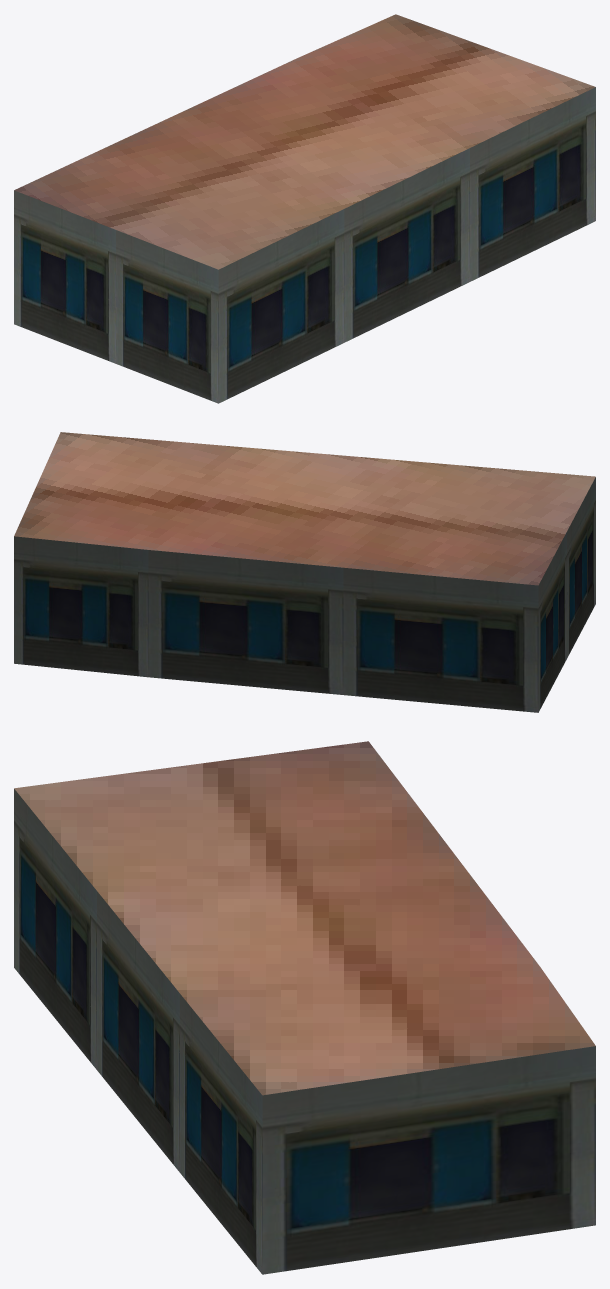
The model's file is T_1SXFQ4NVLH.dae.
3 renders of one model, top to bottom at view 1: azimuth 30°, elevation 25°; view 2: azimuth 150°, elevation 25°; view 3: azimuth 270°, elevation 25°, orthographic. The views are drawn at different scales.
Visible parts, largest first — view 1: SketchUp (×3); view 2: SketchUp (×4); view 3: SketchUp (×3).
Boxes of the visible parts, x1,y1,x2,y2 form: SketchUp (×3): (14, 14, 595, 403); SketchUp (×4): (14, 432, 595, 712); SketchUp (×3): (14, 741, 595, 1274).
Bounding box in the file's own units: 13.59 × 9.44 × 3.21.
2 materials, 2 textured.
